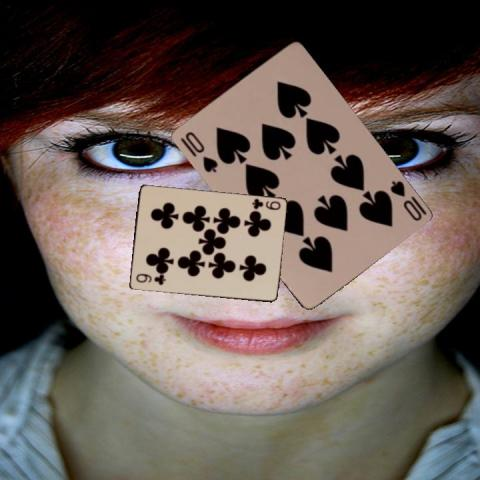10s: (181, 128, 219, 174), (386, 177, 423, 223)
9c: (132, 272, 166, 287), (249, 196, 282, 211)
